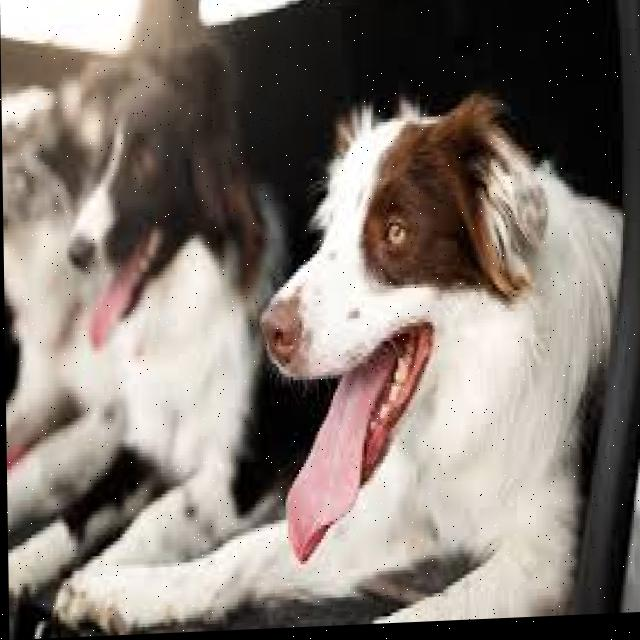ALASKAN_MALAMUTE: (254, 70, 630, 631), (52, 21, 282, 541)
